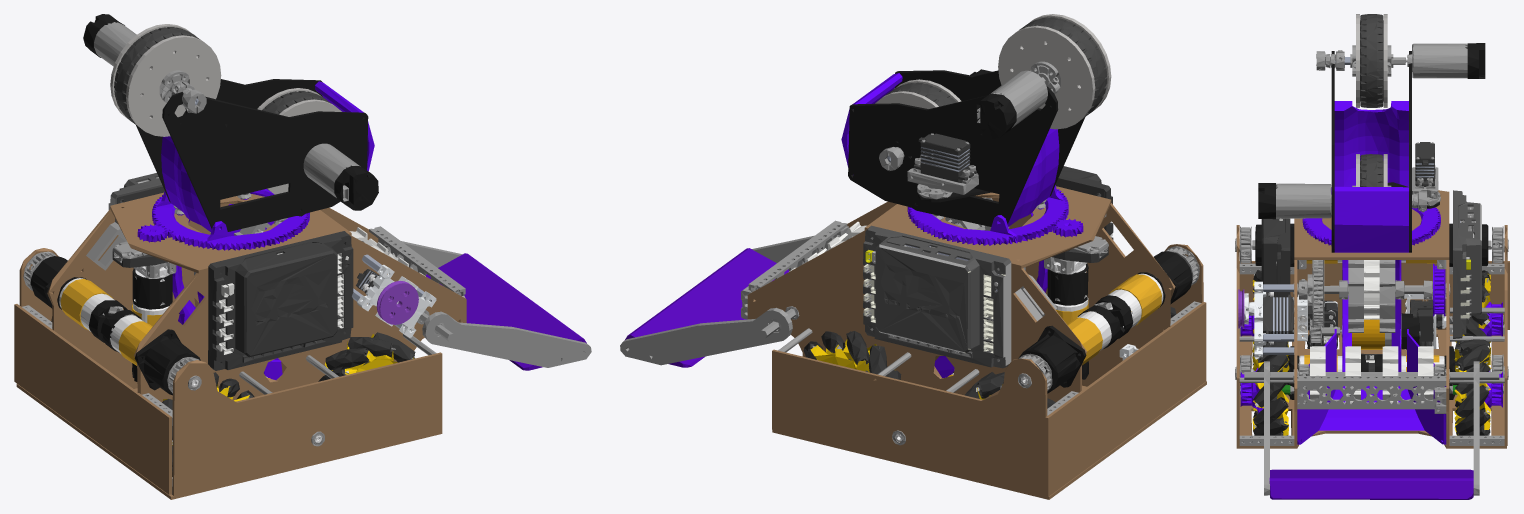
Rendered from bumble-v.glb.
3 views of the same model, side by side, from view 1: azimuth 30°, elevation 25°; view 2: azimuth 150°, elevation 25°; view 3: azimuth 270°, elevation 25° (orthographic). The views are drawn at different scales.
Parts seen in each view (by area): view 1: body, turret, arm, flywheel_top, wheel_fr, flywheel, intake_front, wheel_br; view 2: body, turret, arm, flywheel_top, wheel_fl, flywheel, intake_front, wheel_bl; view 3: body, turret, arm, intake_back, intake_front, flywheel_top, wheel_fl, wheel_fr, wheel_bl, flywheel, wheel_br.
Part boxes in pixels (<box>): body: <box>14,173,466,499</box>; turret: <box>83,14,378,250</box>; arm: <box>388,241,591,370</box>; flywheel_top: <box>110,24,221,136</box>; wheel_fr: <box>318,332,415,381</box>; flywheel: <box>257,88,341,194</box>; intake_front: <box>349,227,454,341</box>; wheel_br: <box>162,372,254,476</box>; body: <box>741,166,1206,499</box>; turret: <box>841,69,1084,245</box>; arm: <box>620,235,829,367</box>; flywheel_top: <box>998,14,1111,129</box>; wheel_fl: <box>803,331,901,379</box>; flywheel: <box>875,79,961,108</box>; intake_front: <box>759,221,866,338</box>; wheel_bl: <box>964,372,1055,408</box>; body: <box>1235,187,1509,448</box>; turret: <box>1258,43,1485,252</box>; arm: <box>1264,361,1479,499</box>; intake_back: <box>1293,260,1450,332</box>; intake_front: <box>1244,346,1499,402</box>; flywheel_top: <box>1350,14,1393,107</box>; wheel_fl: <box>1449,339,1503,435</box>; wheel_fr: <box>1239,341,1294,435</box>; wheel_bl: <box>1449,270,1503,365</box>; flywheel: <box>1352,154,1391,186</box>; wheel_br: <box>1240,270,1294,365</box>.
Bounding box in the file's own units: 0.4587 × 0.404 × 0.2804.
